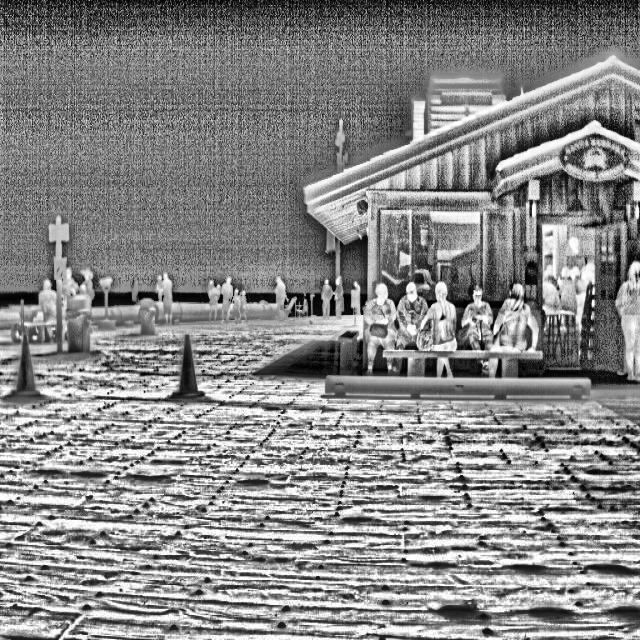person and bycle: (488, 274, 546, 370), (423, 278, 468, 389), (395, 282, 438, 377), (365, 286, 401, 392), (611, 260, 640, 380), (458, 282, 494, 374), (34, 276, 62, 336), (344, 275, 369, 325), (155, 268, 177, 324), (271, 274, 291, 326), (204, 274, 223, 324), (330, 276, 348, 327), (224, 274, 241, 324), (318, 276, 336, 323), (76, 274, 91, 318), (238, 283, 252, 326), (63, 269, 74, 299)
traffic cone: (173, 329, 210, 397), (16, 329, 44, 412)
trash: (67, 318, 96, 354)
